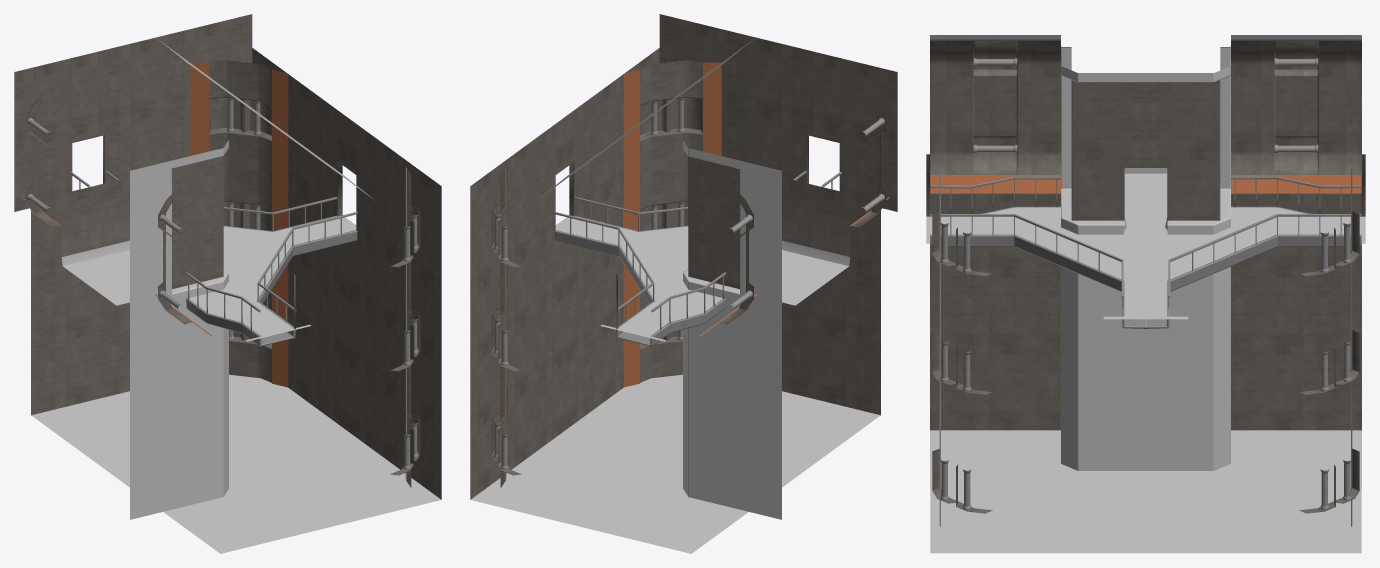
The model's file is HC_room3_alt.gltf.
3 renders of one model, left to right at view 1: azimuth 30°, elevation 25°; view 2: azimuth 150°, elevation 25°; view 3: azimuth 270°, elevation 25°, orthographic. The views are drawn at different scales.
Visible parts, largest first — view 1: TCross; view 2: TCross; view 3: TCross.
Boxes of the visible parts, x1,y1,x2,y2 form: TCross: [14, 14, 441, 553]; TCross: [470, 14, 897, 553]; TCross: [926, 35, 1365, 553].
Size of the model in its own units: 16.27 by 20.74 by 20.72.
